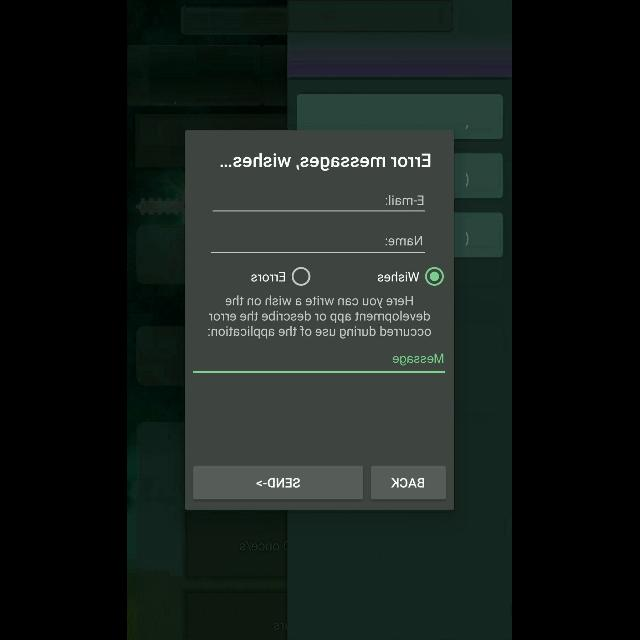checkbox: (426, 266, 446, 286), (292, 266, 312, 286)
input: (194, 352, 446, 373), (213, 194, 427, 212), (212, 236, 426, 254)
panel: (185, 130, 455, 510)
text: (209, 296, 431, 338), (221, 154, 431, 170), (378, 272, 419, 282), (386, 195, 424, 205), (386, 236, 424, 246), (252, 272, 286, 282)
textbutton: (194, 466, 364, 498), (372, 466, 446, 498)
